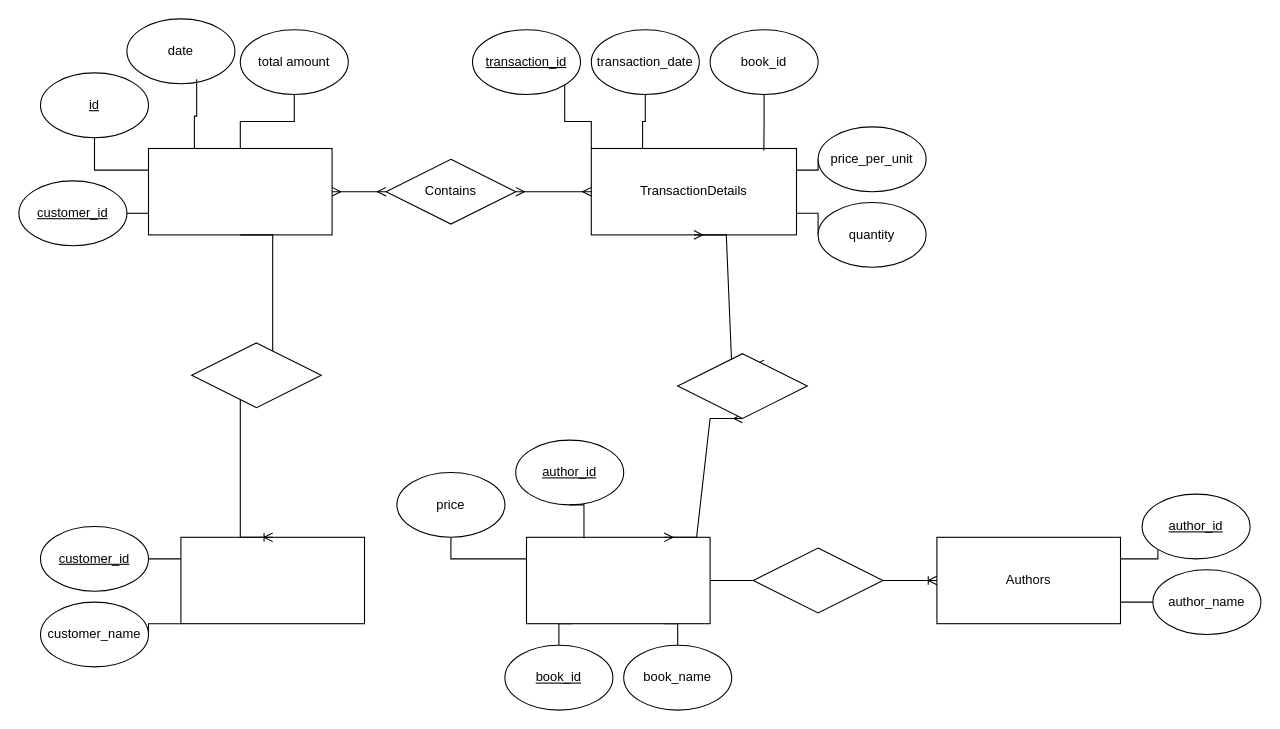
Some shapes in this 1280 by 729 pixel diagram are drawn without their labels. Each missing label, with the box of its shape:
Books: (525, 536, 710, 624)
Customers: (180, 536, 364, 624)
Initiates: (191, 342, 321, 408)
Purchases: (677, 353, 807, 418)
Transactions: (147, 147, 332, 235)
Writes: (752, 547, 883, 613)
